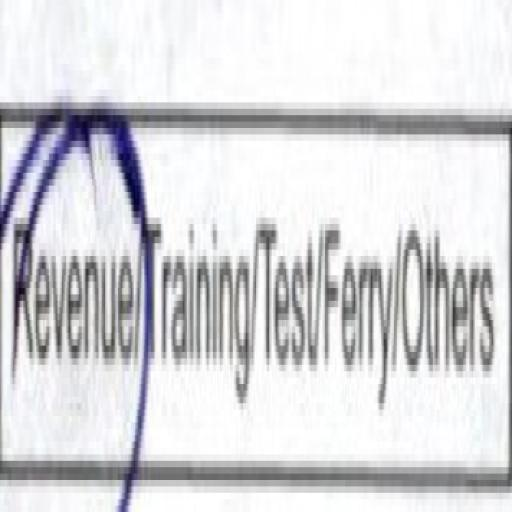check: (1, 48, 139, 504)
